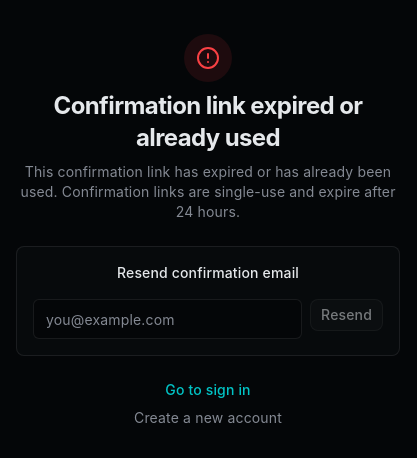
AuthErrorPage › shows error when resend fails
In the field with placeholder "you@example.com": point(168, 319) [33,299,302,339], type "user@test.com"
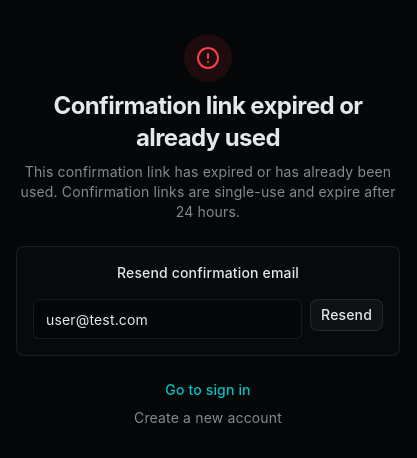
Click the button "Resend": point(347, 315) [310,299,383,331]
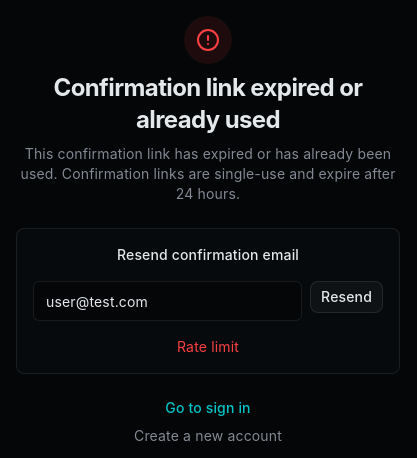
Now the text "Rate limit" is shown, box [177,338,239,355]
